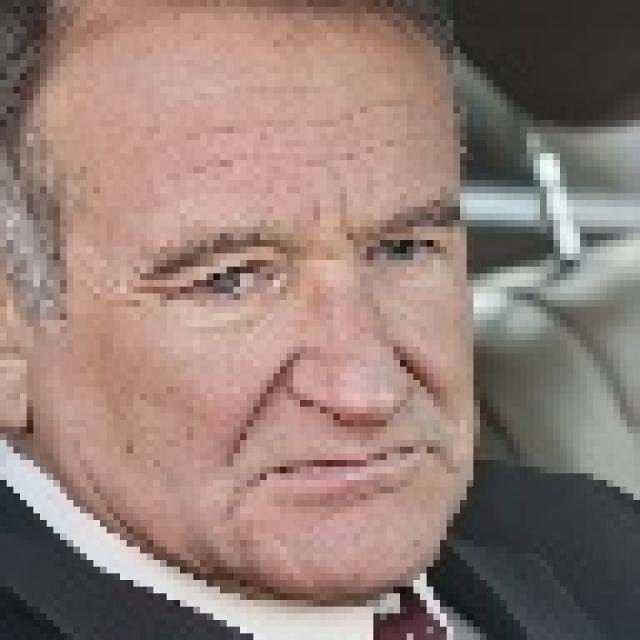angry: (1, 14, 457, 623)
